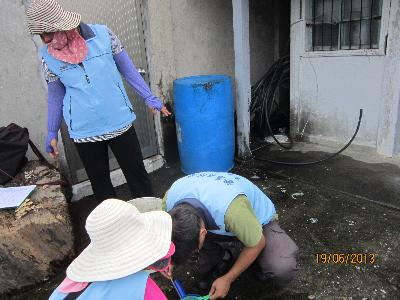bucket: (172, 73, 237, 177)
